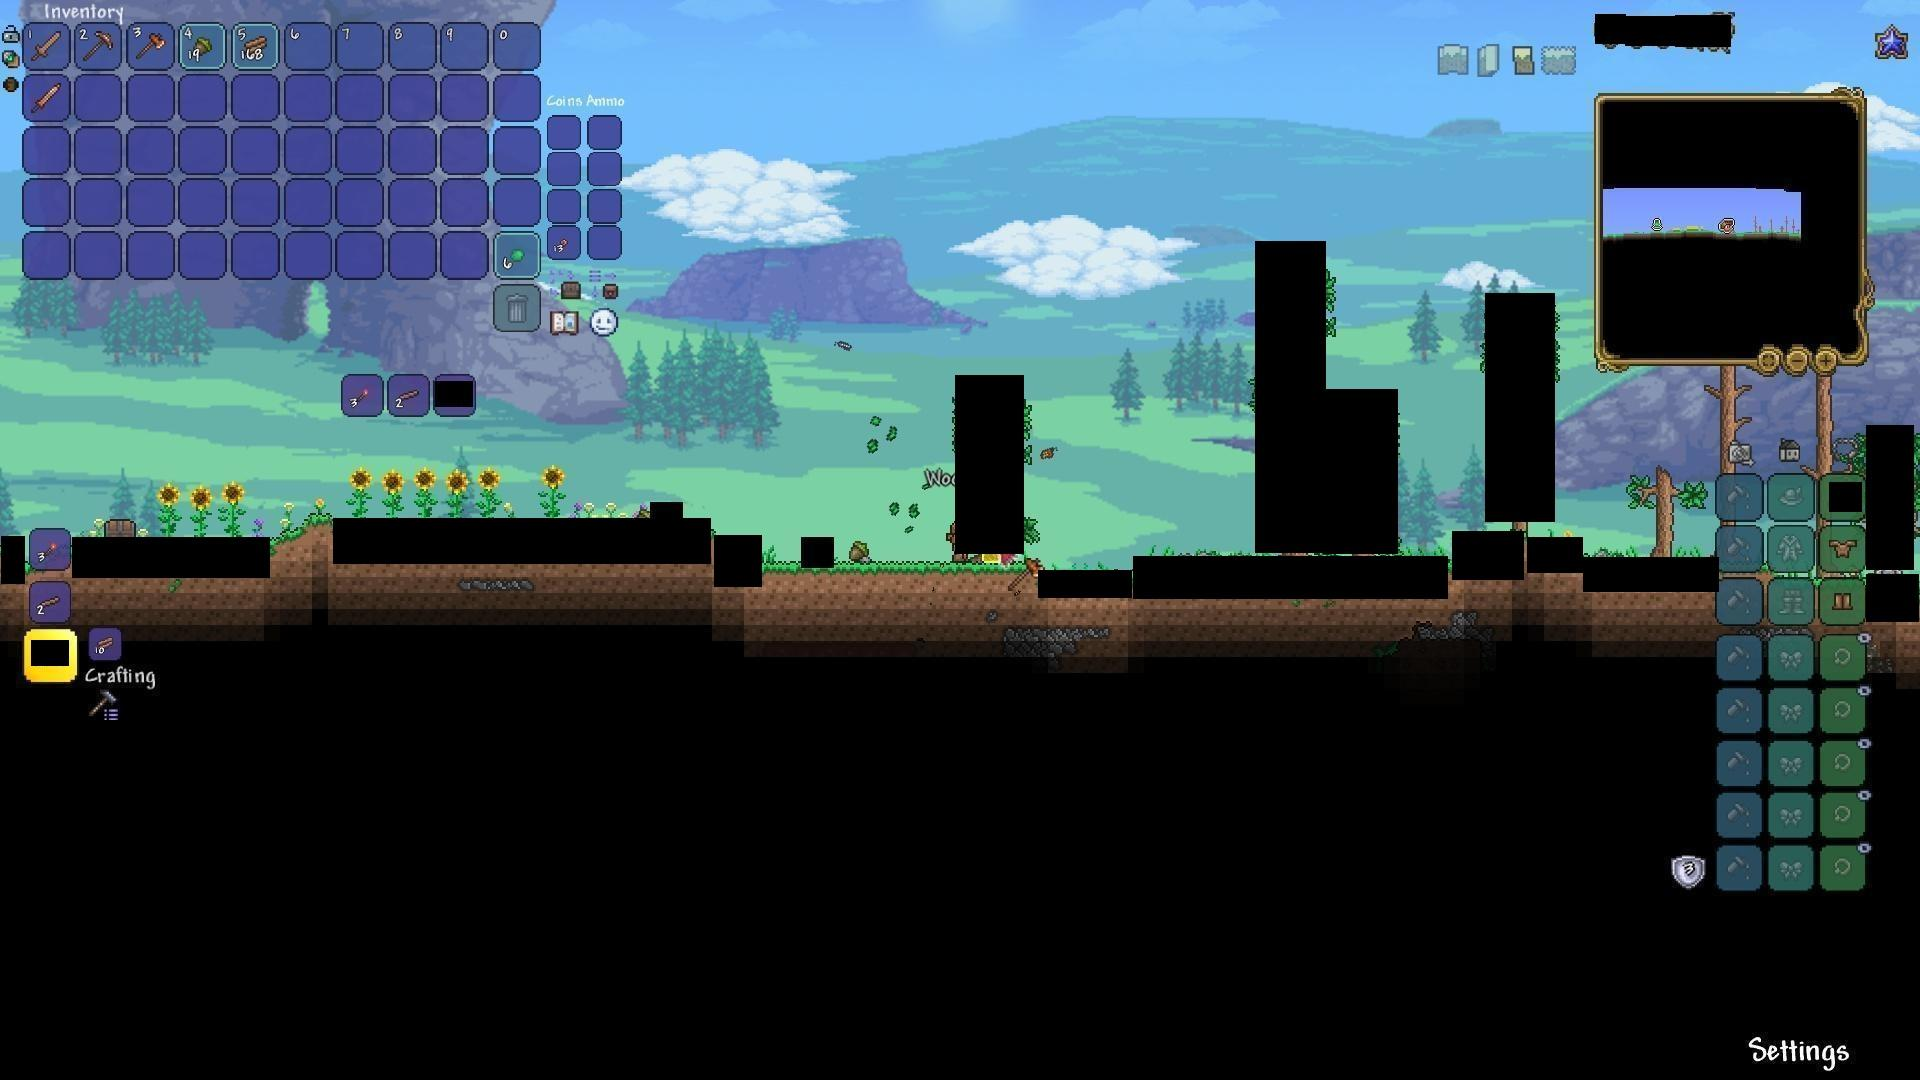breastplate: (1830, 537, 1859, 559)
dirt: (762, 560, 1040, 596), (274, 509, 334, 556)
legs: (1832, 588, 1855, 616)
tree: (1633, 462, 1683, 556)
wood: (88, 629, 120, 659), (243, 36, 269, 59)
